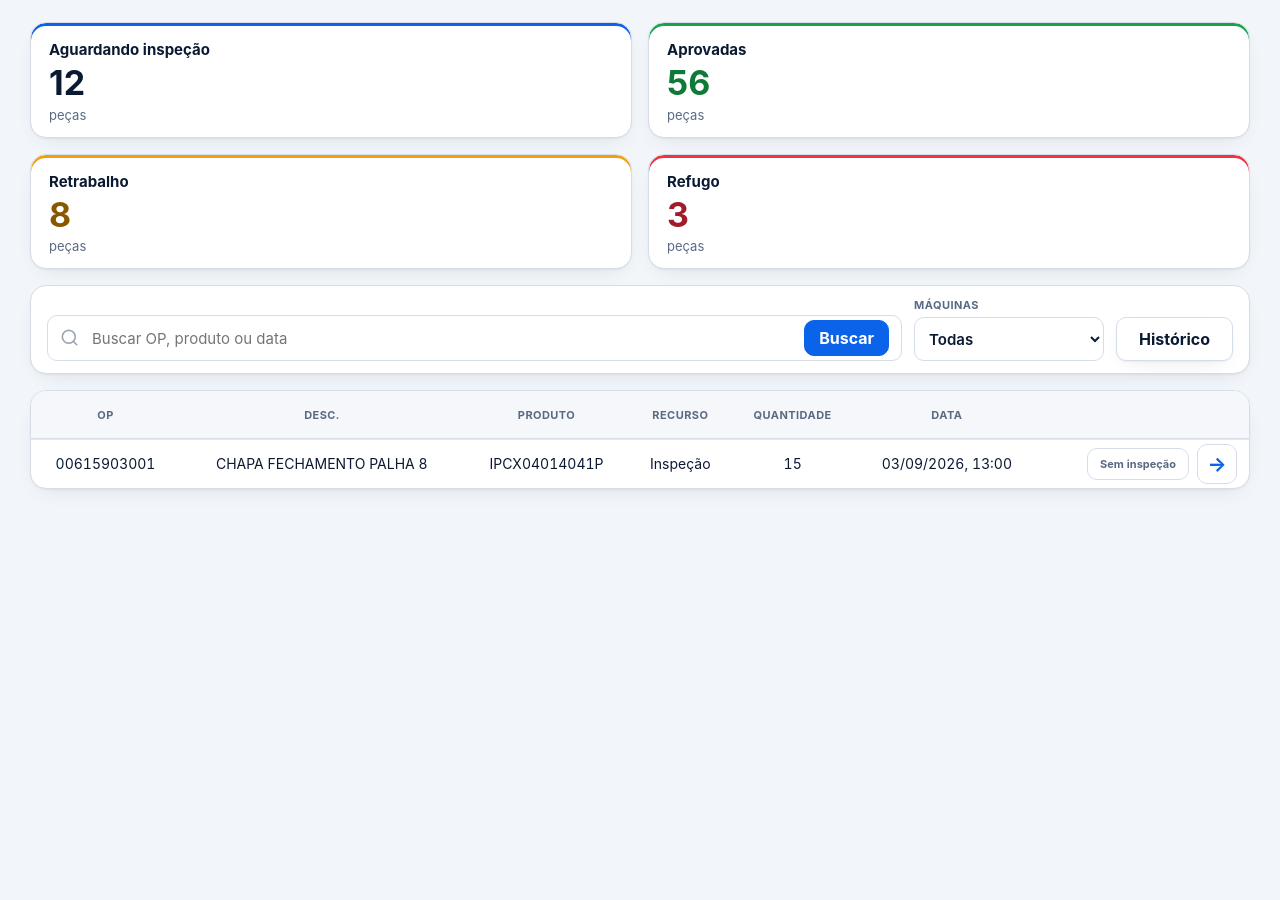
Test case: aba Qualidade do operador › lista a fila com os quatro indicadores e abre a inspeção pela ação da linha
Check: the text "Aguardando inspeção" is shown, box x1=49 y1=40 x2=210 y2=59
Check: the text "12" is shown, box x1=49 y1=62 x2=85 y2=103
Click the button named "Inspecionar OP 00615903001": (1217, 464) x1=1197 y1=444 x2=1237 y2=484
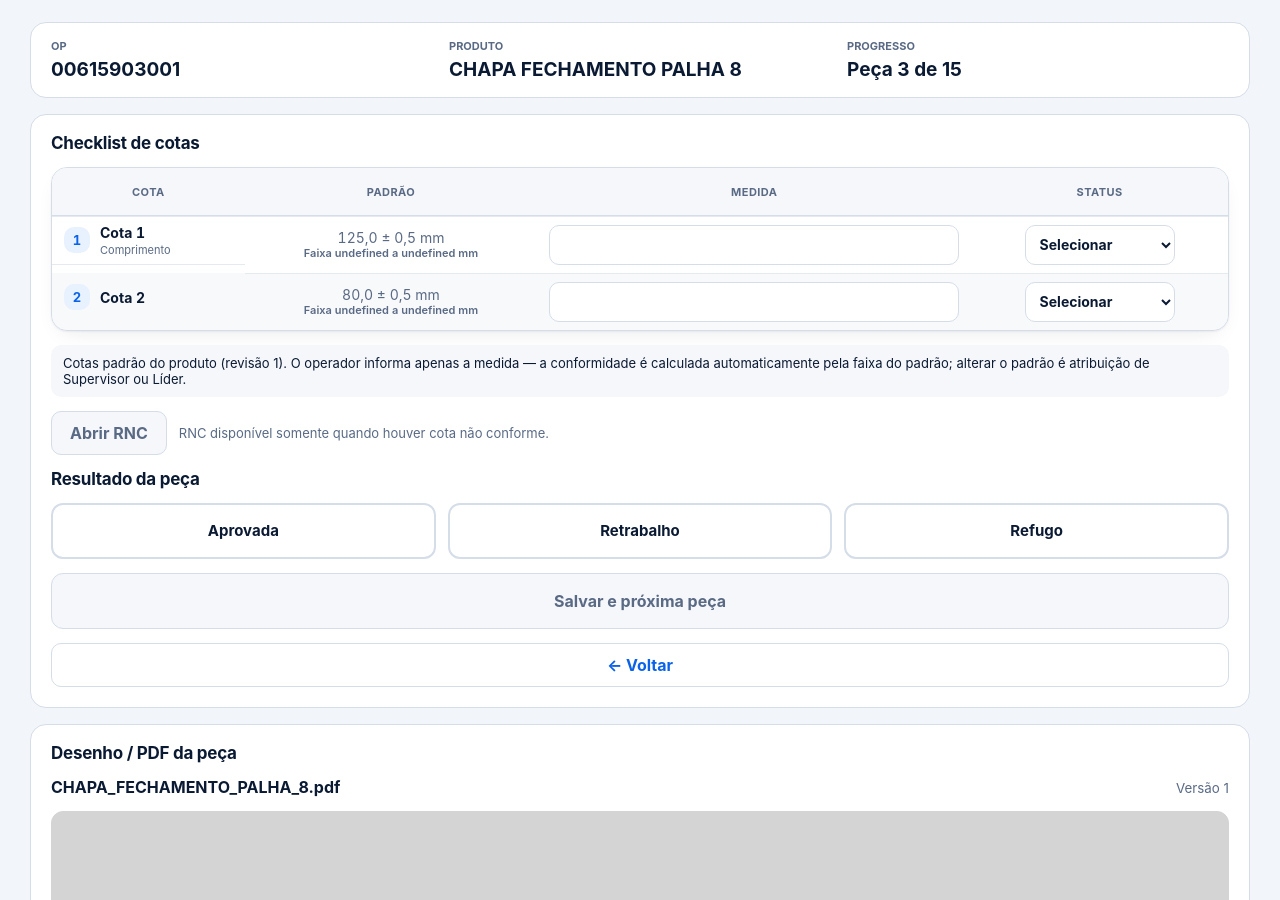
Check: the heading "Checklist de cotas" is shown, box x1=51 y1=133 x2=200 y2=153
